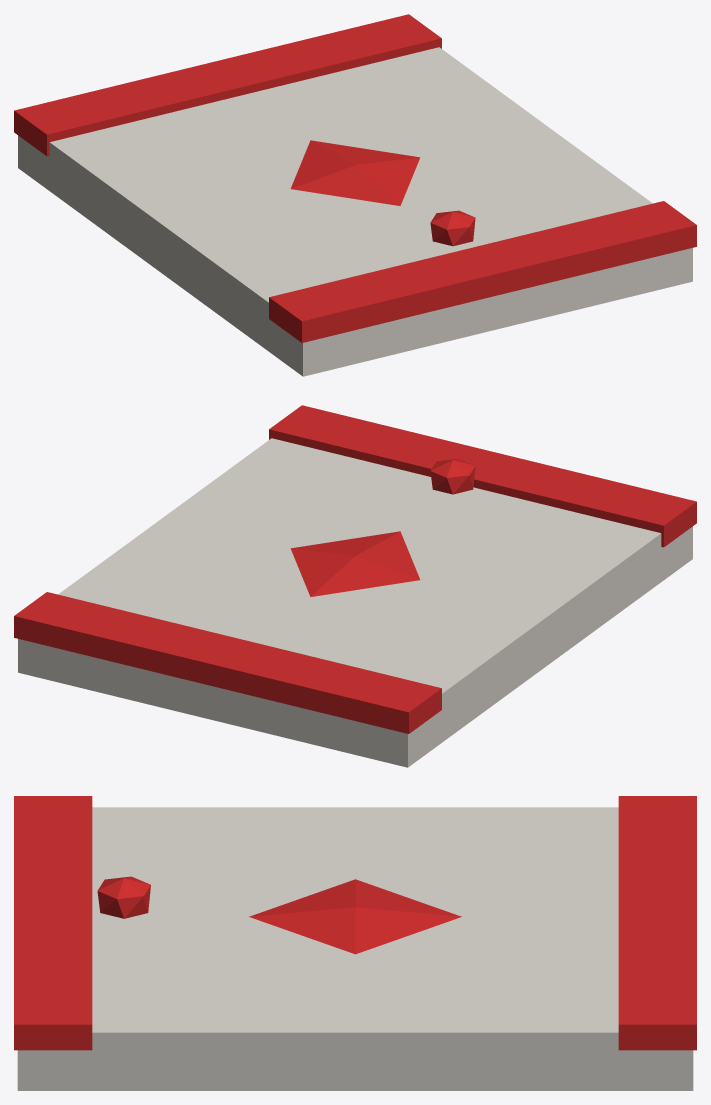
The model's file is drop_cape_hitpoints.glb.
3 views of the same model, one above another, from view 1: azimuth 30°, elevation 25°; view 2: azimuth 150°, elevation 25°; view 3: azimuth 270°, elevation 25° (orthographic). The views are drawn at different scales.
Parts seen in each view (by area): view 1: drop_cape_hitpoints; view 2: drop_cape_hitpoints; view 3: drop_cape_hitpoints.
Boxes of the visible parts, box(x1,y1,x2,y2) form: drop_cape_hitpoints: box(14, 14, 696, 376); drop_cape_hitpoints: box(14, 405, 696, 767); drop_cape_hitpoints: box(14, 796, 696, 1090).
Bounding box in the file's own units: 0.304 × 0.062 × 0.384.
